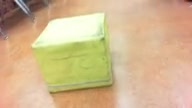cube: (31, 12, 113, 93)
